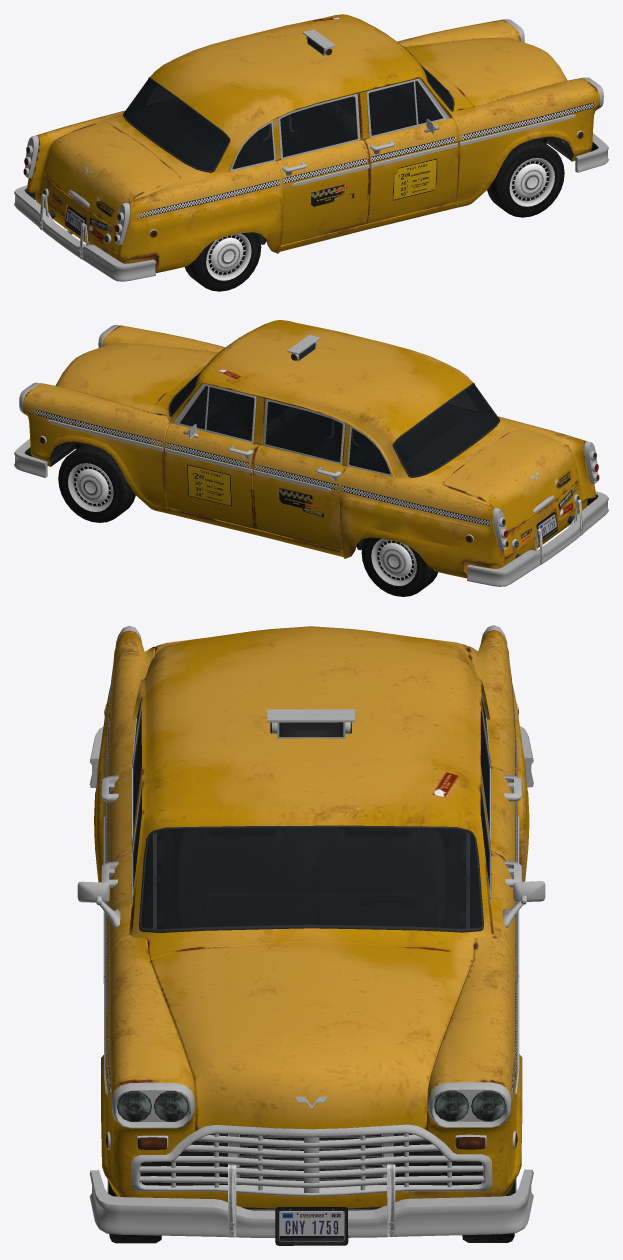
Rendered from taxi.glb.
3 renders of one model, top to bottom at view 1: azimuth 30°, elevation 25°; view 2: azimuth 150°, elevation 25°; view 3: azimuth 270°, elevation 25°, orthographic. The views are drawn at different scales.
Visible parts, largest first — view 1: Canyon75_Body_Canyon75_Bodymat_0, Canyon75_Windshield_UCB_Lights_and_Glass_Transperent_0, Canyon75_Interior_UCB_Interiors_2_0, Canyon75_Suspension_UCB_BOTTOM_0, Canyon75_WheelStock_FL_RB1c_Tire_1k_0; view 2: Canyon75_Body_Canyon75_Bodymat_0, Canyon75_Windshield_UCB_Lights_and_Glass_Transperent_0, Canyon75_Interior_UCB_Interiors_2_0, Canyon75_Suspension_UCB_BOTTOM_0, Canyon75_WheelStock_FL_RB1c_Tire_1k_0; view 3: Canyon75_Body_Canyon75_Bodymat_0, Canyon75_Suspension_UCB_BOTTOM_0, Canyon75_Windshield_UCB_Lights_and_Glass_Transperent_0, Canyon75_Interior_UCB_Interiors_2_0, Canyon75_Headlights_UCB_Lights_and_Glass_0, Canyon75_Numberplate_Rear_Numberplates_Misk_U_0, Canyon75_WheelStock_FL_RB1c_Tire_1k_0.
Part boxes in pixels (x1,y1,x2,y2): Canyon75_Body_Canyon75_Bodymat_0: (26, 14, 599, 272); Canyon75_Windshield_UCB_Lights_and_Glass_Transperent_0: (124, 66, 452, 171); Canyon75_Interior_UCB_Interiors_2_0: (124, 71, 452, 170); Canyon75_Suspension_UCB_BOTTOM_0: (14, 19, 608, 281); Canyon75_WheelStock_FL_RB1c_Tire_1k_0: (184, 138, 564, 291); Canyon75_Body_Canyon75_Bodymat_0: (23, 320, 596, 578); Canyon75_Windshield_UCB_Lights_and_Glass_Transperent_0: (170, 372, 498, 476); Canyon75_Interior_UCB_Interiors_2_0: (170, 376, 498, 475); Canyon75_Suspension_UCB_BOTTOM_0: (14, 325, 608, 586); Canyon75_WheelStock_FL_RB1c_Tire_1k_0: (58, 444, 437, 596); Canyon75_Body_Canyon75_Bodymat_0: (94, 626, 529, 1208); Canyon75_Suspension_UCB_BOTTOM_0: (77, 625, 545, 1245); Canyon75_Windshield_UCB_Lights_and_Glass_Transperent_0: (132, 697, 490, 929); Canyon75_Interior_UCB_Interiors_2_0: (134, 720, 488, 928); Canyon75_Headlights_UCB_Lights_and_Glass_0: (117, 1090, 505, 1121); Canyon75_Numberplate_Rear_Numberplates_Misk_U_0: (279, 1211, 344, 1241); Canyon75_WheelStock_FL_RB1c_Tire_1k_0: (107, 1177, 516, 1243).
Bounding box in the file's own units: 5.31 × 1.83 × 2.13.
Materials: 8 (8 with a texture image).
